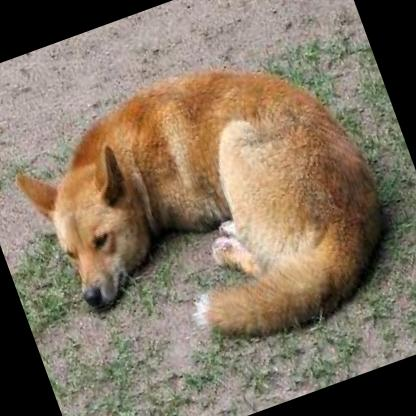dingo: (0, 21, 409, 396)
